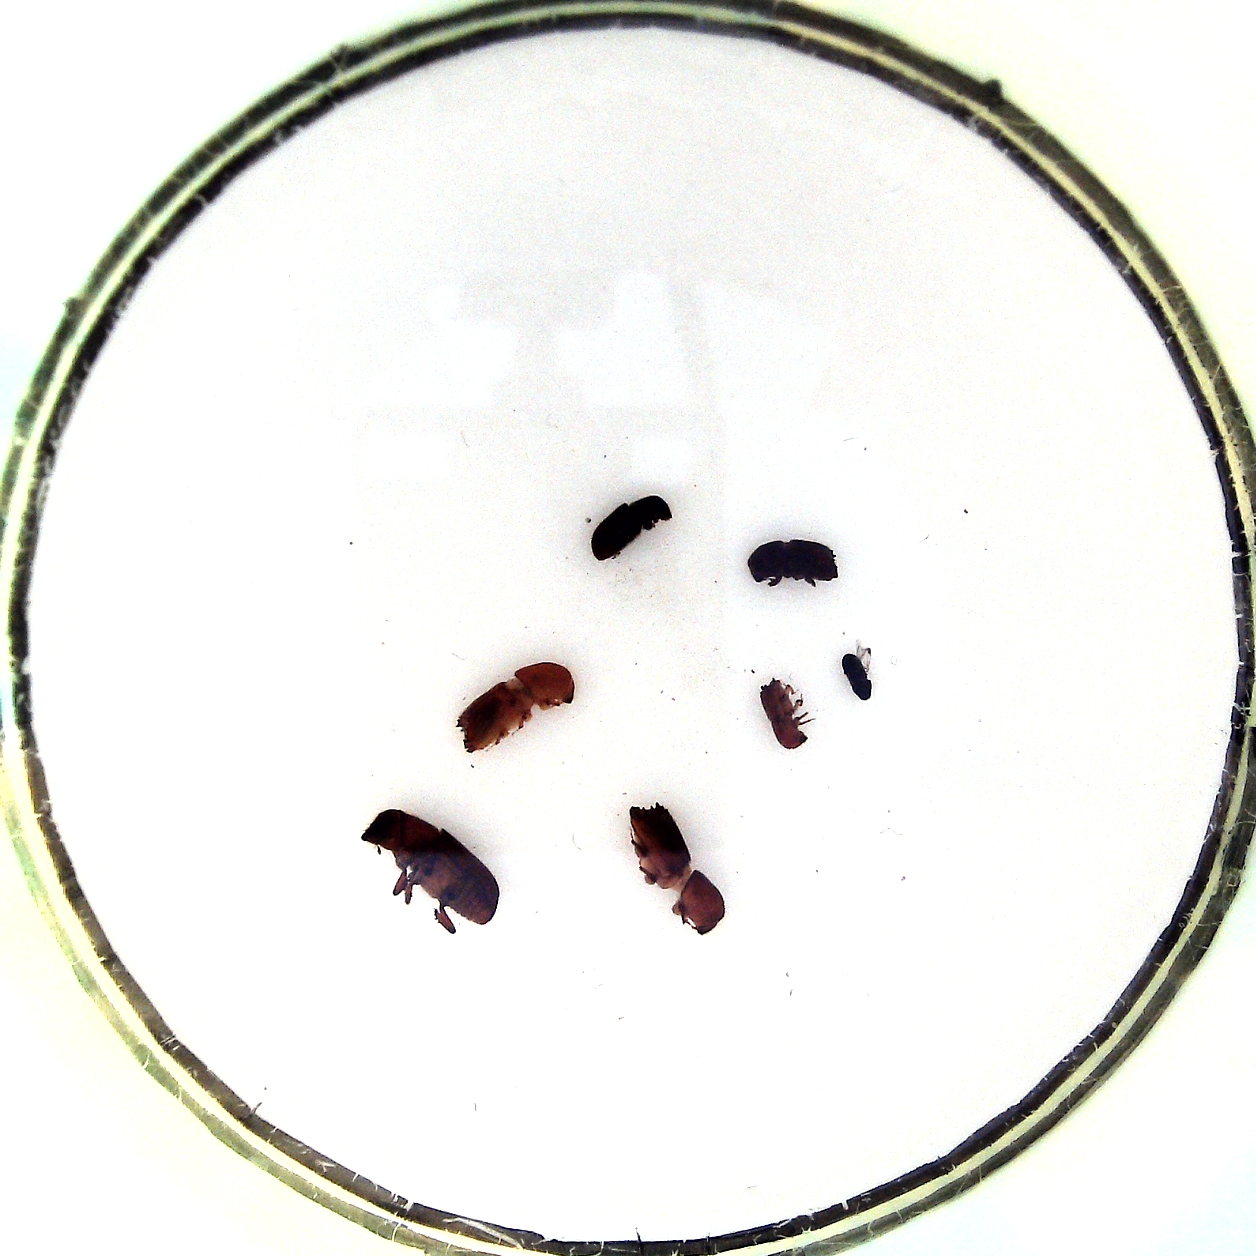Boerner: (625, 801, 726, 936), (454, 660, 577, 757)
Leconte: (357, 805, 498, 934)
Linnaeus: (742, 536, 841, 592)
acuminatus: (756, 672, 813, 752)
armandi: (588, 493, 675, 564)
coleoptera: (838, 641, 879, 703)
